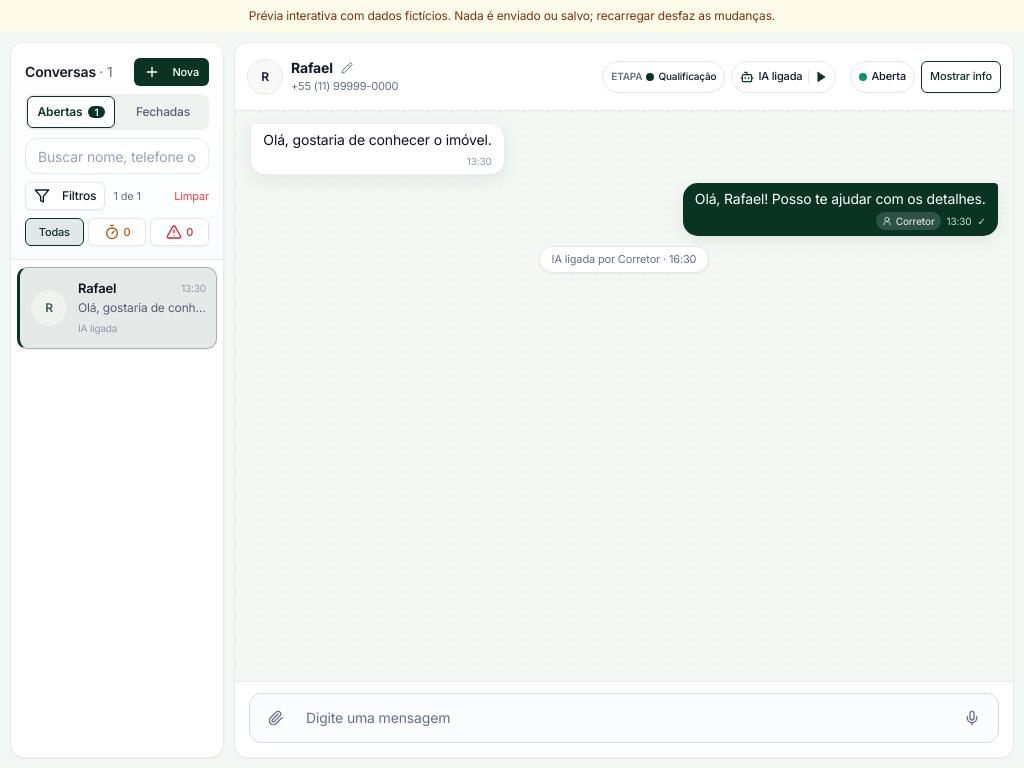
it: prévia permite editar contato e fechar só na tela
Click the button named "Editar nome" at coordinates (347, 68), box [337,58,357,78]
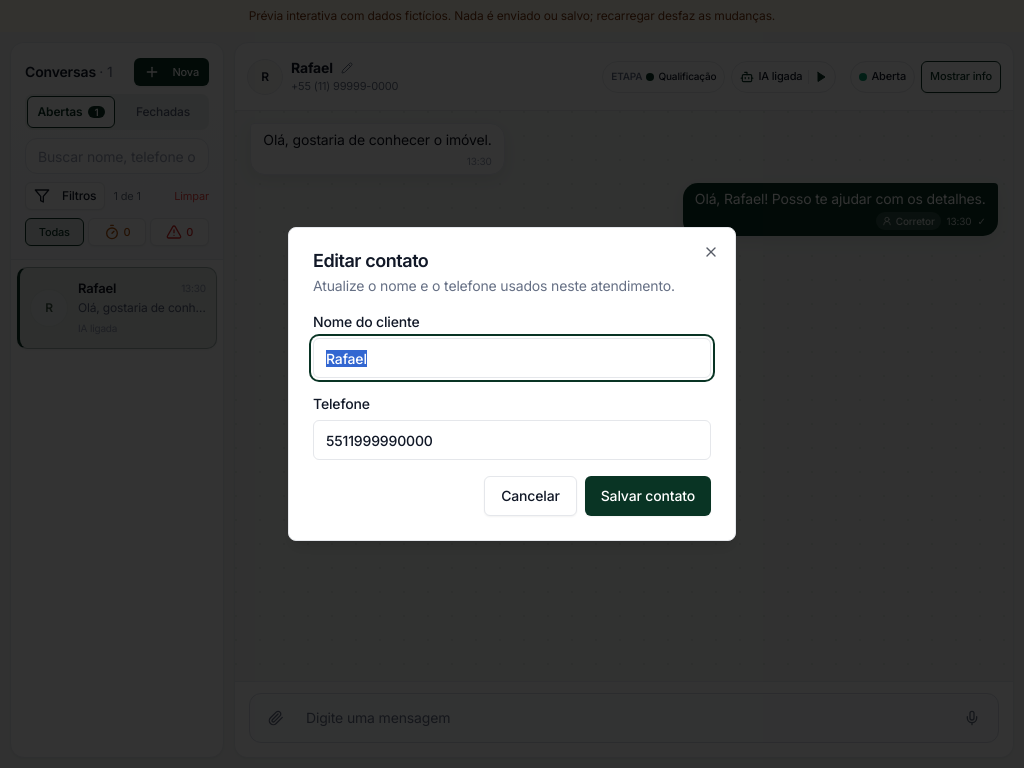
Replace the text in the field labelled "Nome do cliente" with "Rafael Teste" at coordinates (512, 358), box [313,338,711,378]
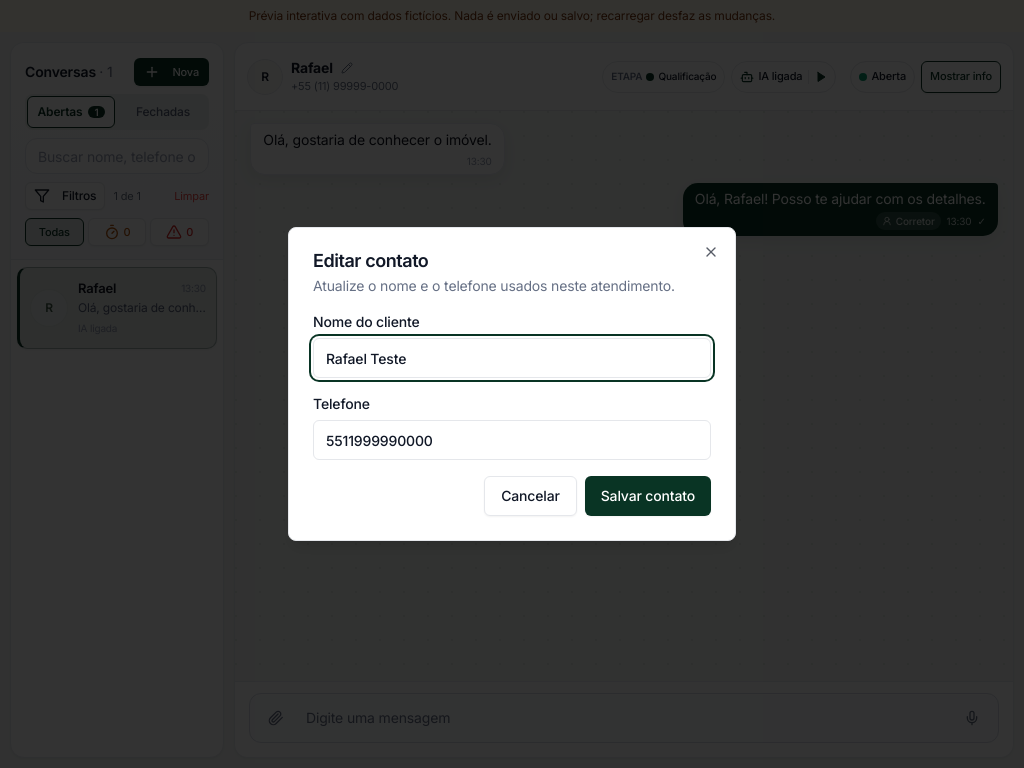
Click the button "Salvar contato" at coordinates (648, 496), box [585,476,711,516]
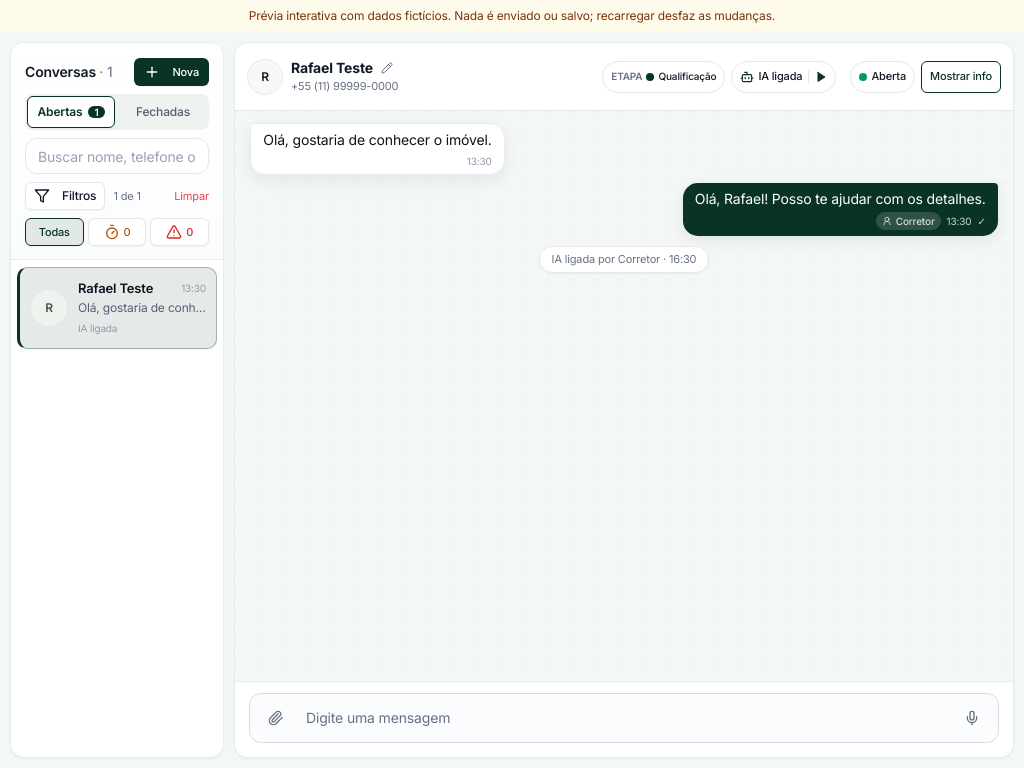
Now the button "Rafael Teste" is shown, box [17,267,217,349]
Click the button "Aberta" at coordinates (883, 76), box [850,60,915,92]
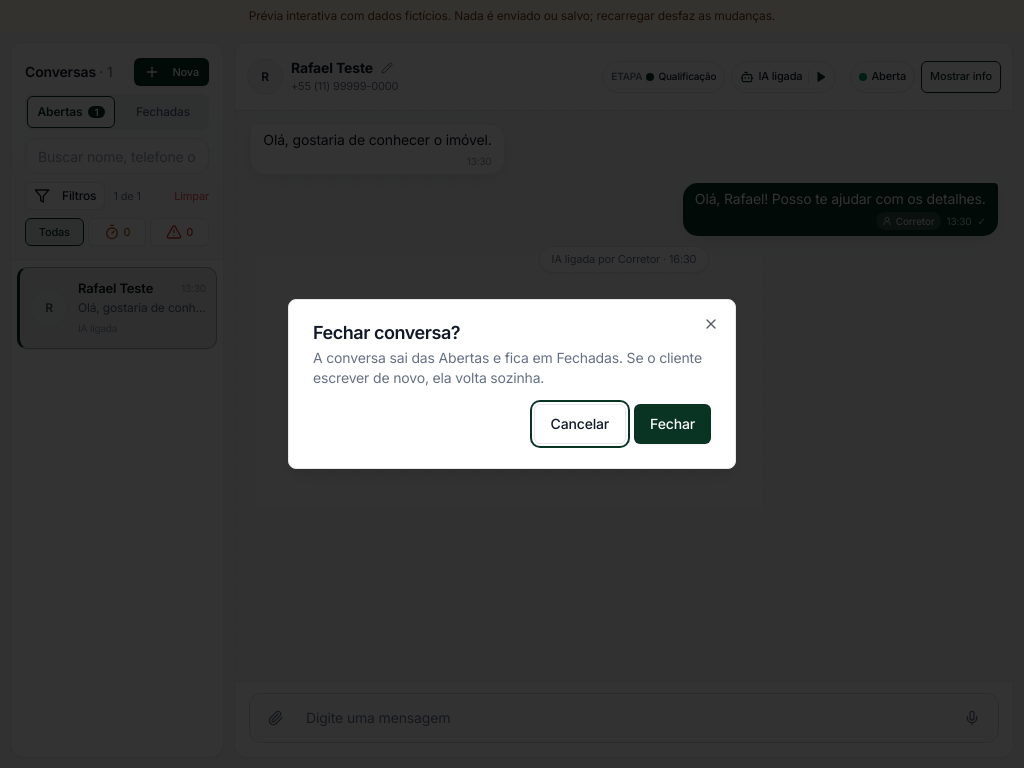
Click the button "Fechar" at coordinates (673, 424), box [634,404,711,444]
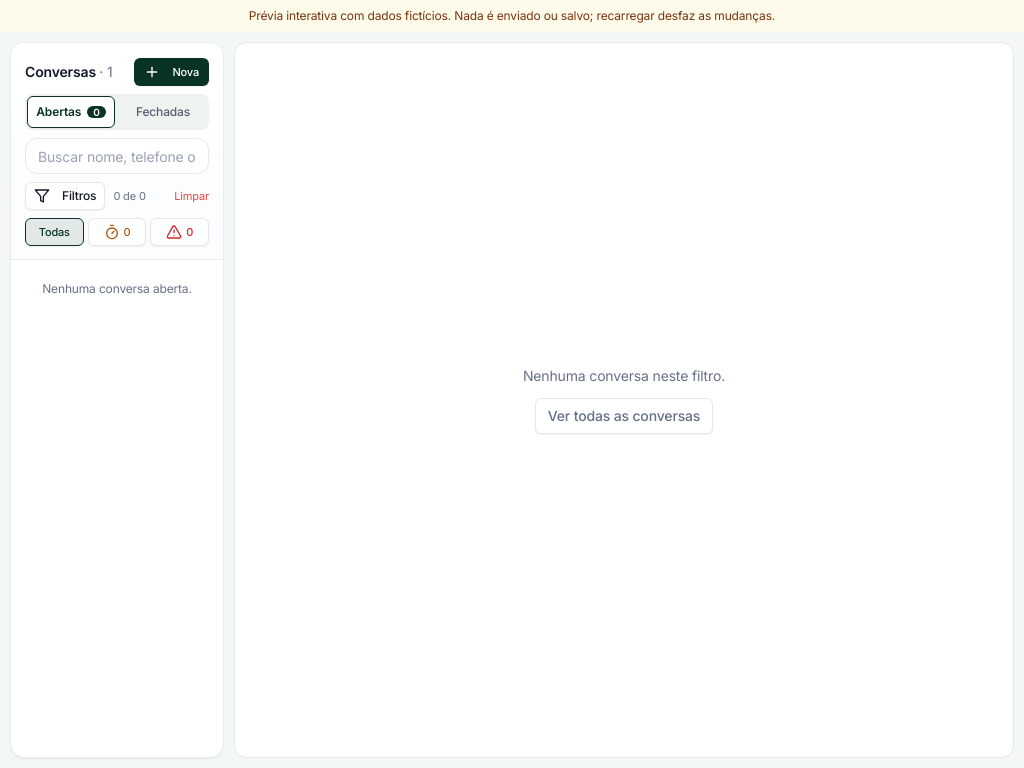
Now the text "Nenhuma conversa aberta." is shown, box [42,281,192,296]
Click the button "Fechadas" at coordinates (163, 112), box [119,96,207,128]
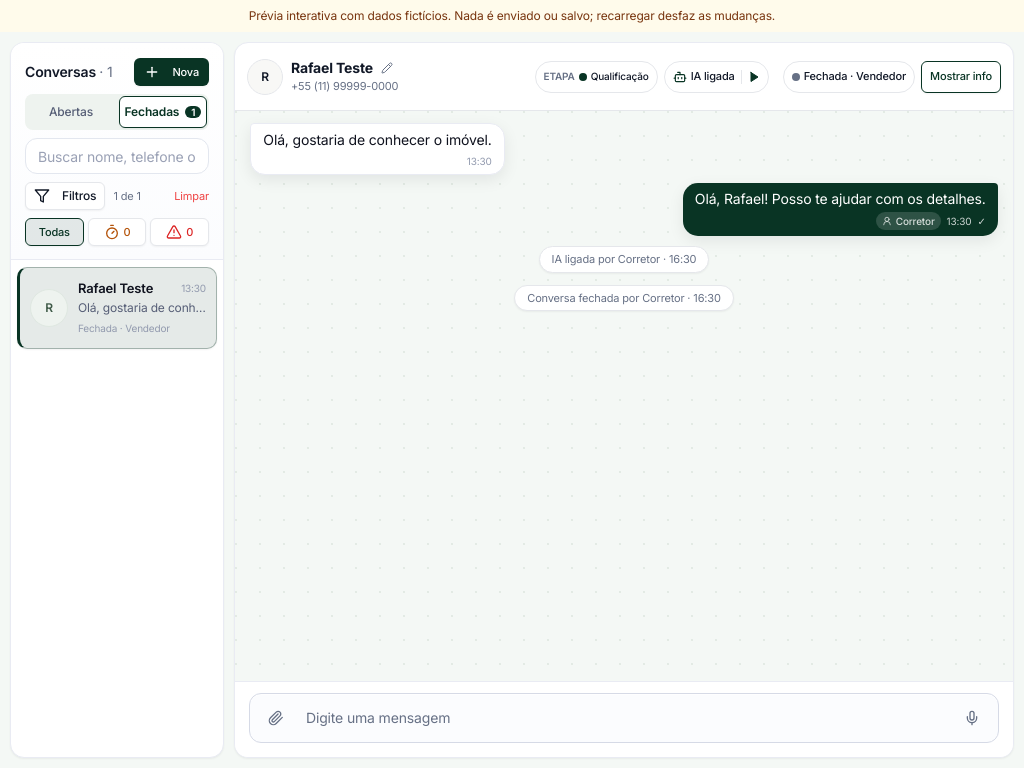
Now the button "Fechada · Vendedor" is shown, box [783,60,915,92]
Now the text "Conversa fechada por Corretor · 16:30" is shown, box [514,285,734,311]
